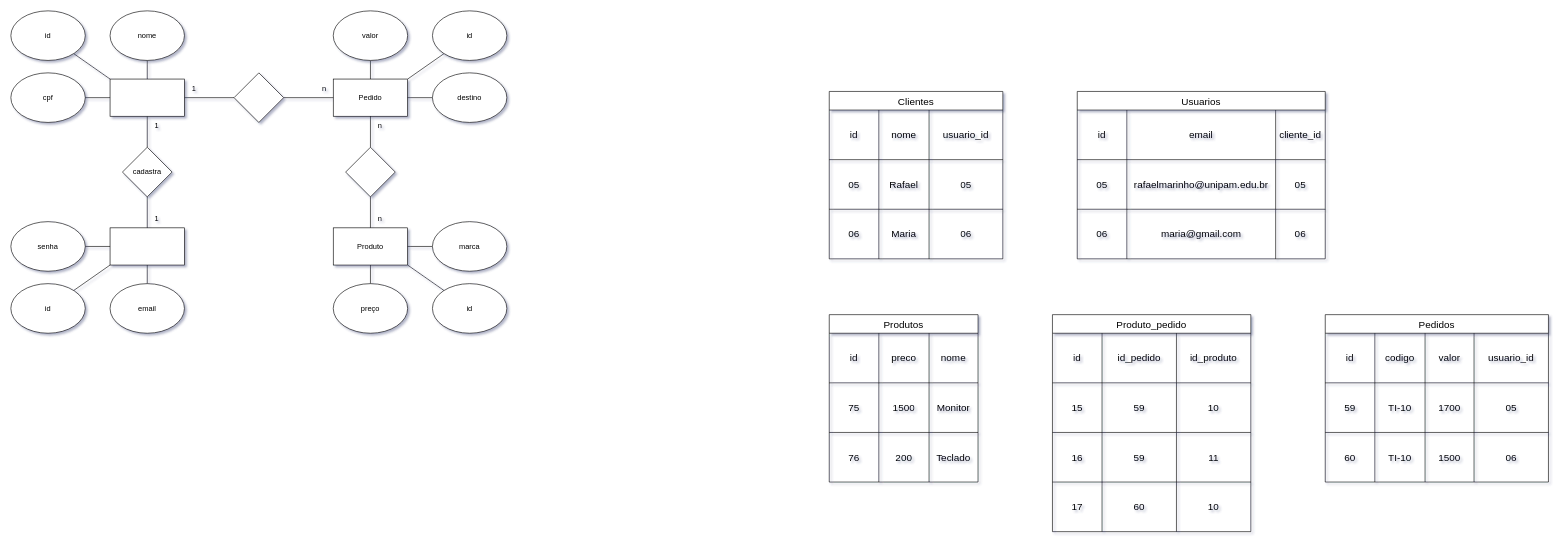
Some shapes in this 1563 by 546 pixel diagram are drawn without their labels. Each missing label, with the centre of its shape:
Cliente: the point at 146,97
contem: the point at 370,172
realiza: the point at 258,97
Usuario: the point at 146,246
